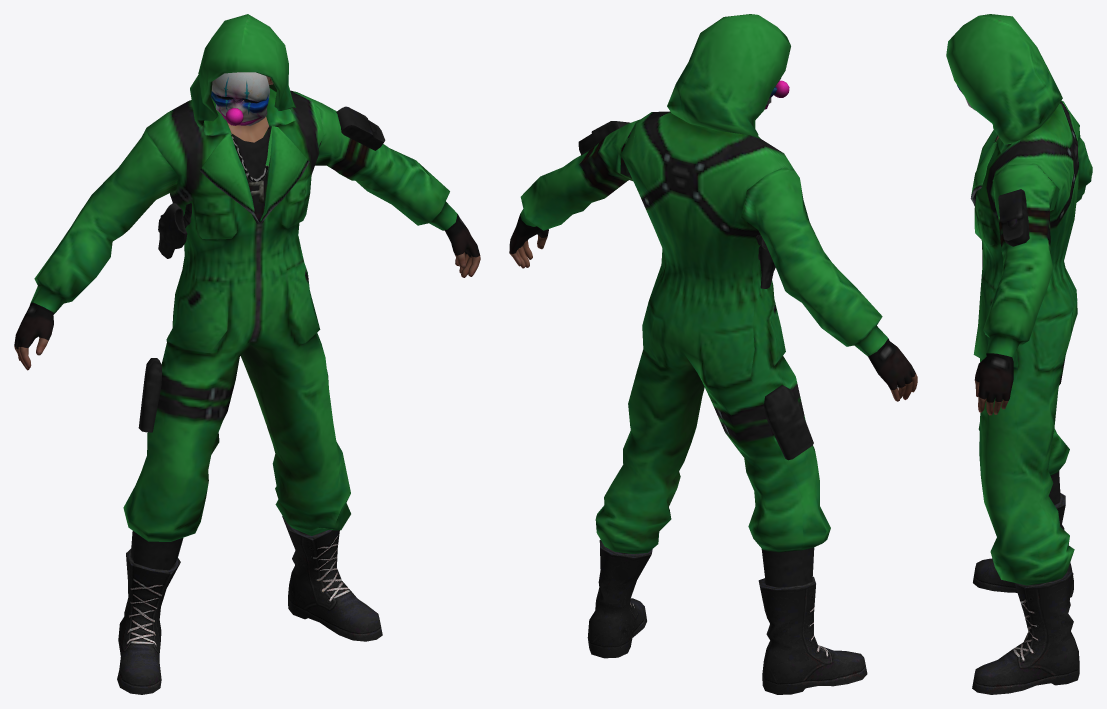
Rendered from green.obj.
3 renders of one model, left to right at view 1: azimuth 30°, elevation 25°; view 2: azimuth 150°, elevation 25°; view 3: azimuth 270°, elevation 25°, orthographic. The views are drawn at different scales.
Visible parts, largest first — view 1: Mesh_3464.rip_Mesh_3464.rip_mesh0000, Mesh_3186.rip_Mesh_3186.rip_mesh0000; view 2: Mesh_3464.rip_Mesh_3464.rip_mesh0000; view 3: Mesh_3464.rip_Mesh_3464.rip_mesh0000.
Part boxes in pixels (left/top/right/bottom): Mesh_3464.rip_Mesh_3464.rip_mesh0000: left=14, top=14, right=480, bottom=694; Mesh_3186.rip_Mesh_3186.rip_mesh0000: left=211, top=72, right=269, bottom=125; Mesh_3464.rip_Mesh_3464.rip_mesh0000: left=509, top=14, right=917, bottom=694; Mesh_3464.rip_Mesh_3464.rip_mesh0000: left=946, top=14, right=1092, bottom=694.
Size of the model in its own units: 9.47 by 13.44 by 2.9.
Materials: 2 (2 with a texture image).
